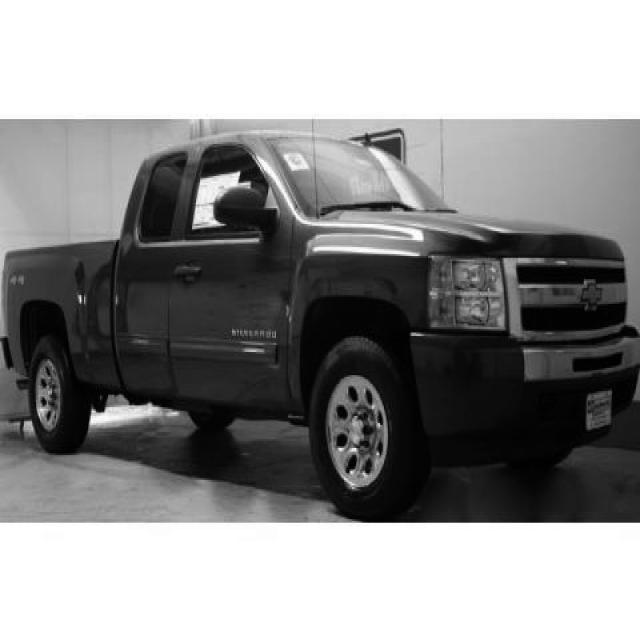car: (0, 126, 639, 521)
